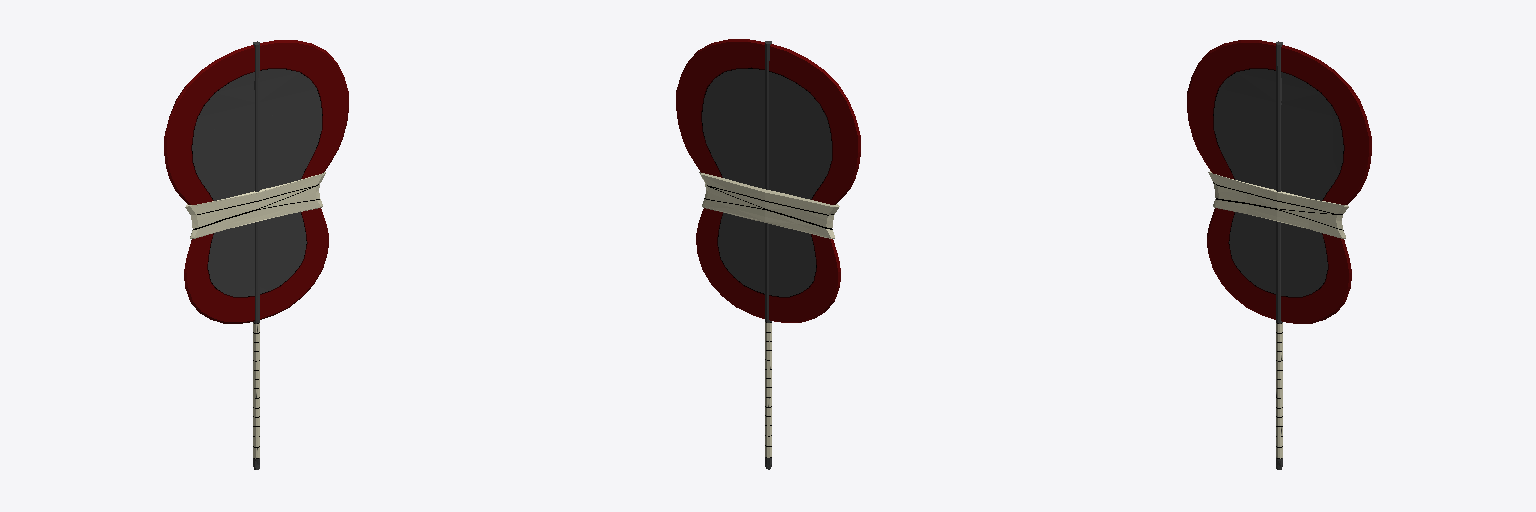
3 views of the same model, side by side, from view 1: azimuth 30°, elevation 25°; view 2: azimuth 150°, elevation 25°; view 3: azimuth 330°, elevation 25° (orthographic).
Parts seen in each view (by area): view 1: _3tob00t0_bigfan01_; view 2: _3tob00t0_bigfan01_; view 3: _3tob00t0_bigfan01_.
Boxes of the visible parts, x1=… form: _3tob00t0_bigfan01_: x1=164, y1=40, x2=348, y2=469; _3tob00t0_bigfan01_: x1=676, y1=39, x2=860, y2=469; _3tob00t0_bigfan01_: x1=1187, y1=40, x2=1371, y2=469.
Bounding box in the file's own units: 73.93 × 163 × 3.8.
Materials: 1 (1 with a texture image).